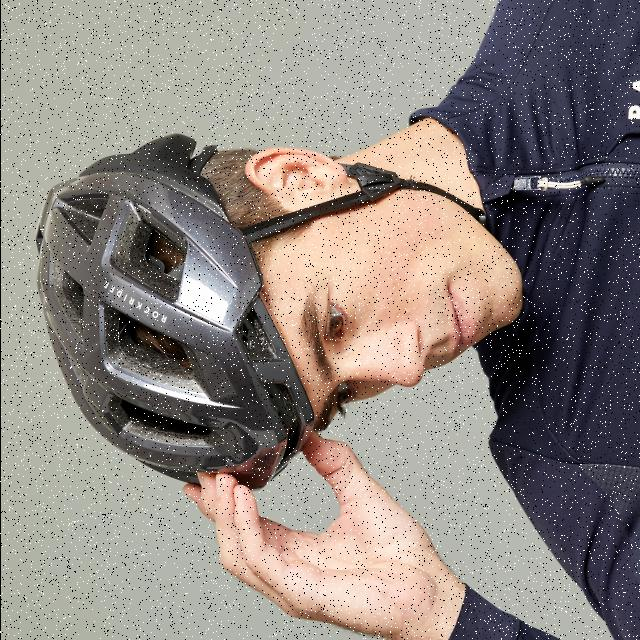Helmet: (26, 118, 331, 504)
